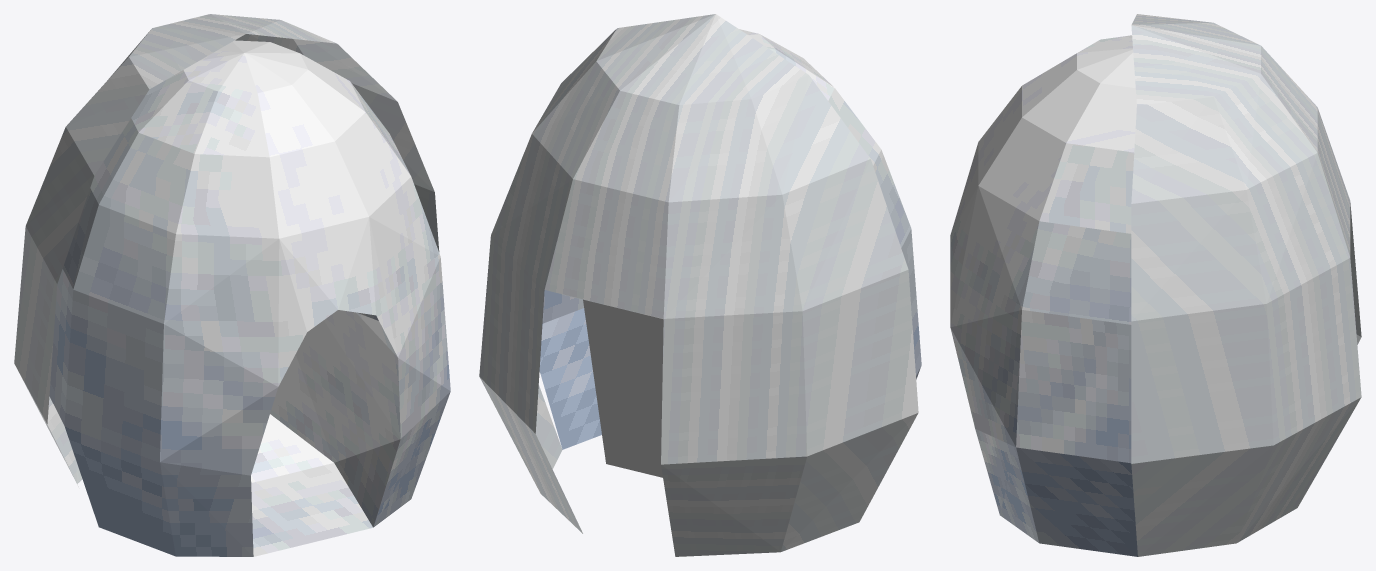
3 renders of one model, left to right at view 1: azimuth 30°, elevation 25°; view 2: azimuth 150°, elevation 25°; view 3: azimuth 270°, elevation 25°, orthographic. The views are drawn at different scales.
Visible parts, largest first — view 1: polygon1, polygon0; view 2: polygon0, polygon1; view 3: polygon0, polygon1.
Boxes of the visible parts, left/top/right/bottom form: polygon1: left=49, top=40, right=450, bottom=556; polygon0: left=14, top=14, right=439, bottom=486; polygon0: left=479, top=14, right=918, bottom=556; polygon1: left=539, top=29, right=921, bottom=477; polygon0: left=1131, top=14, right=1361, bottom=556; polygon1: left=950, top=35, right=1137, bottom=556.
Size of the model in its own units: 6.63 by 7.35 by 5.95.
Materials: 2 (2 with a texture image).
